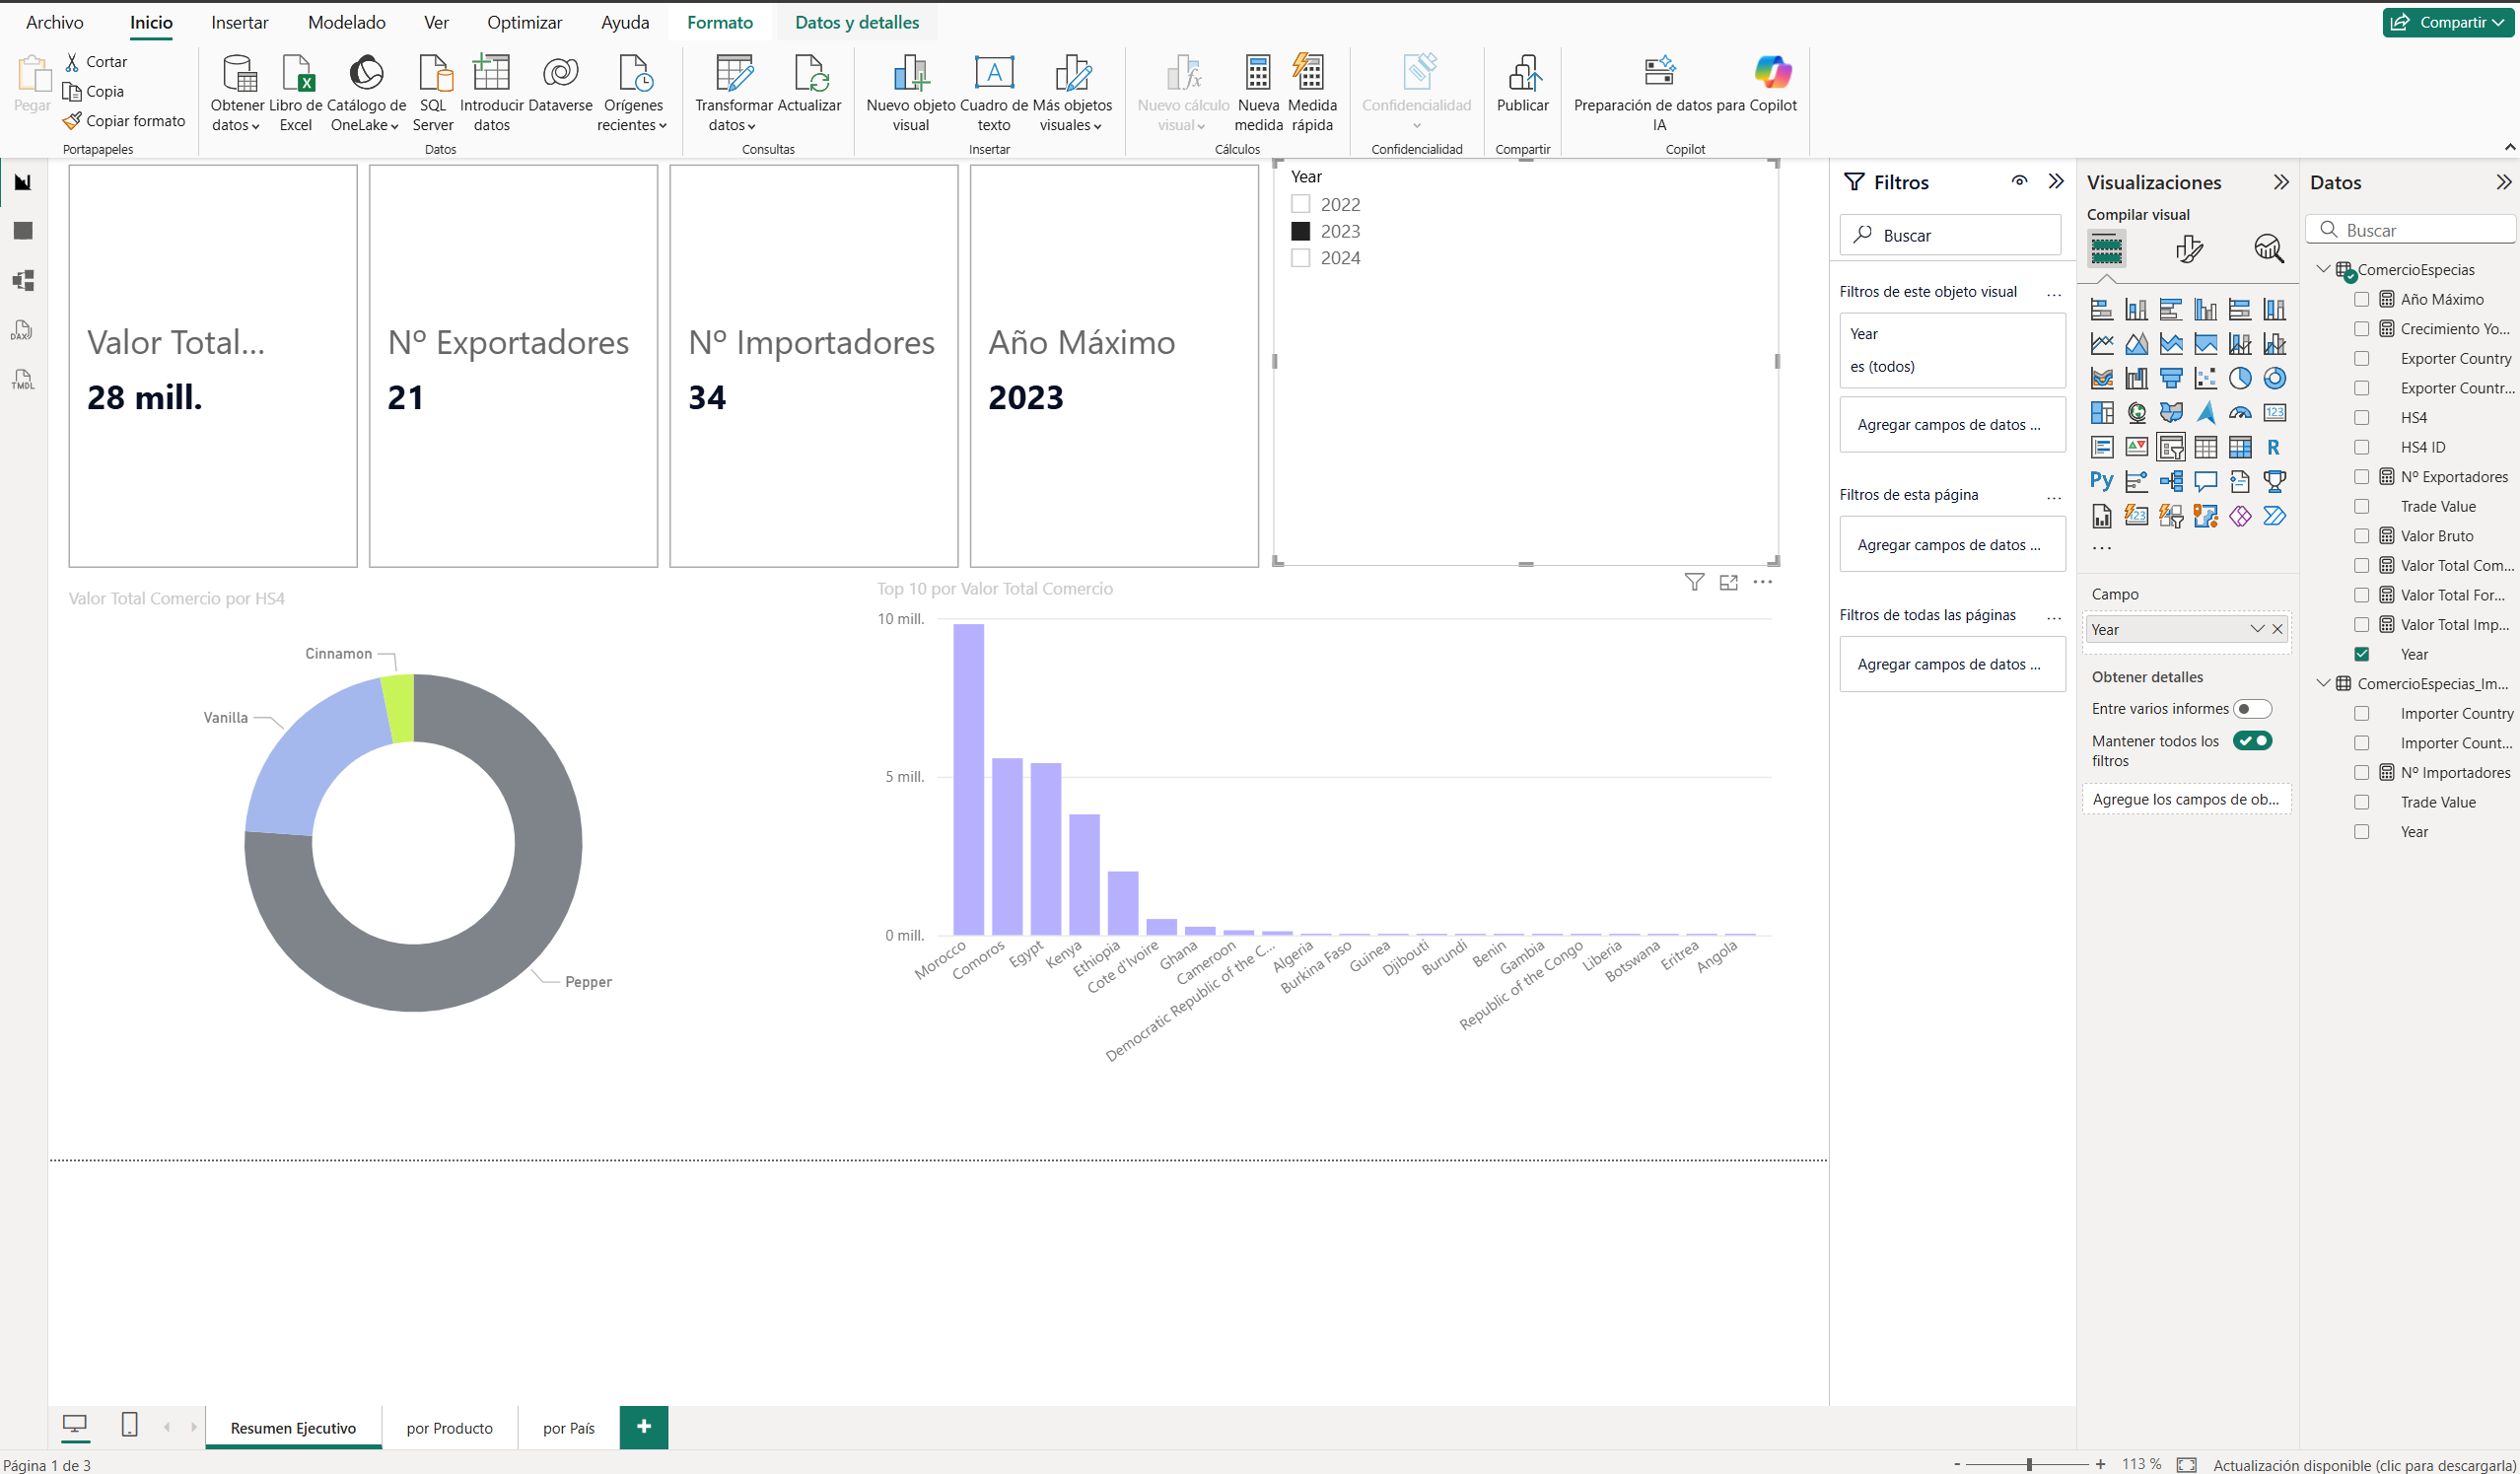

The page's visual inventory and layout, read from the dashboard file:
{"tool":"powerbi","page":{"name":"Resumen Ejecutivo","canvas":[1280,720],"ordinal":0},"visuals":[{"type":"donutChart","fields":{"Category":["ComercioEspecias.HS4"],"Y":["ComercioEspecias.Valor Total Comercio"]},"box":[9.7,308.6,505.9,353.1],"z":1000},{"type":"clusteredColumnChart","title":"Top 10 por Valor Total Comercio","fields":{"Category":["ComercioEspecias.Exporter Country"],"Y":["ComercioEspecias.Valor Total Comercio"]},"box":[591.1,300.8,653,360.8],"z":2000},{"type":"cardVisual","fields":{"Data":["select","ComercioEspecias.Valor Total Comercio","ComercioEspecias.Nº Exportadores","ComercioEspecias_Import (2).Nº Importadores","ComercioEspecias.Año Máximo"]},"box":[9.7,0,869.7,300.8],"z":3000},{"type":"slicer","fields":{"Values":["ComercioEspecias.Year"]},"box":[880.3,0,363.7,293.1],"z":3001}]}

Visuals, with their boxes on the page's 1280x720 design canvas (x1, y1, x2, y2). These are canvas units, not pixel positions in the 2520x1474 screenshot, which may show the page scaled, cropped or inside an application window:
donutChart - ComercioEspecias.HS4 x ComercioEspecias.Valor Total Comercio: Rect(10, 309, 516, 662)
"Top 10 por Valor Total Comercio" clusteredColumnChart: Rect(591, 301, 1244, 662)
cardVisual - select x ComercioEspecias.Valor Total Comercio: Rect(10, 0, 879, 301)
slicer - ComercioEspecias.Year: Rect(880, 0, 1244, 293)
